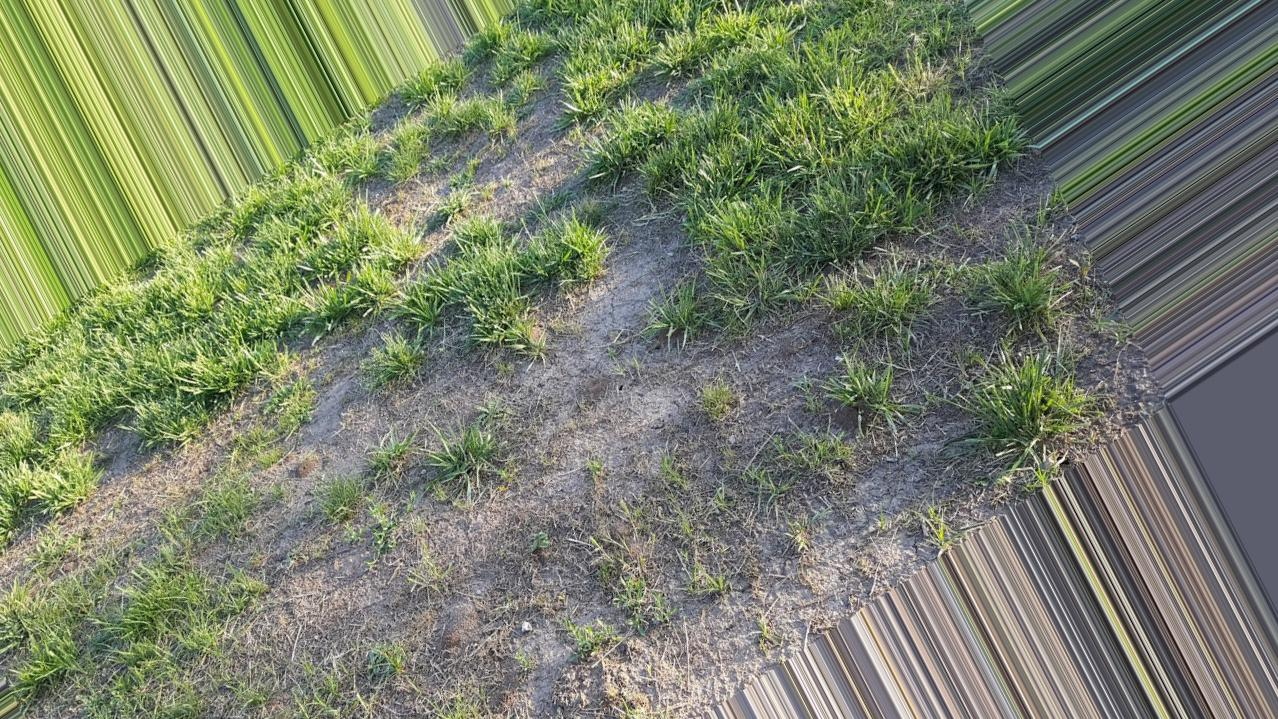patch: (599, 328, 729, 447), (375, 423, 497, 545), (229, 506, 336, 623), (382, 567, 497, 671), (604, 537, 699, 635), (785, 530, 863, 567)
